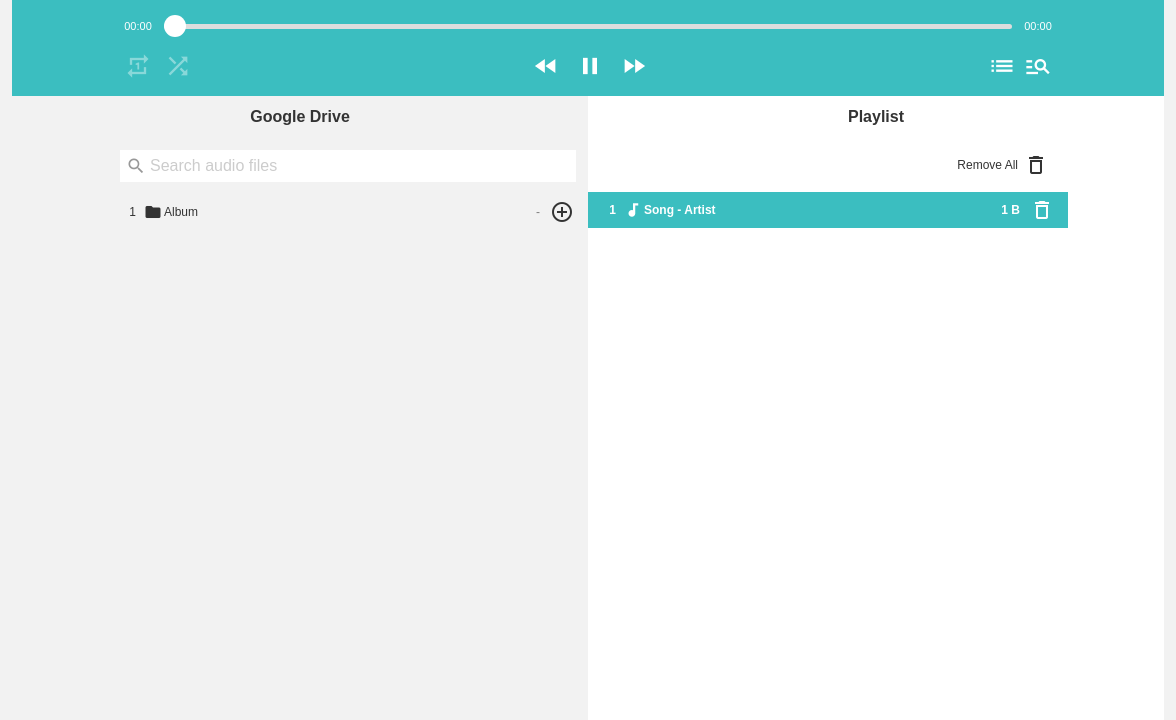
LibraryPage › 再生 › 再生中の曲の表示名をページのタイトルにする
This screenshot has width=1176, height=720.
Click the button with class "display-mode" at (1002, 66), box [984, 48, 1020, 84]
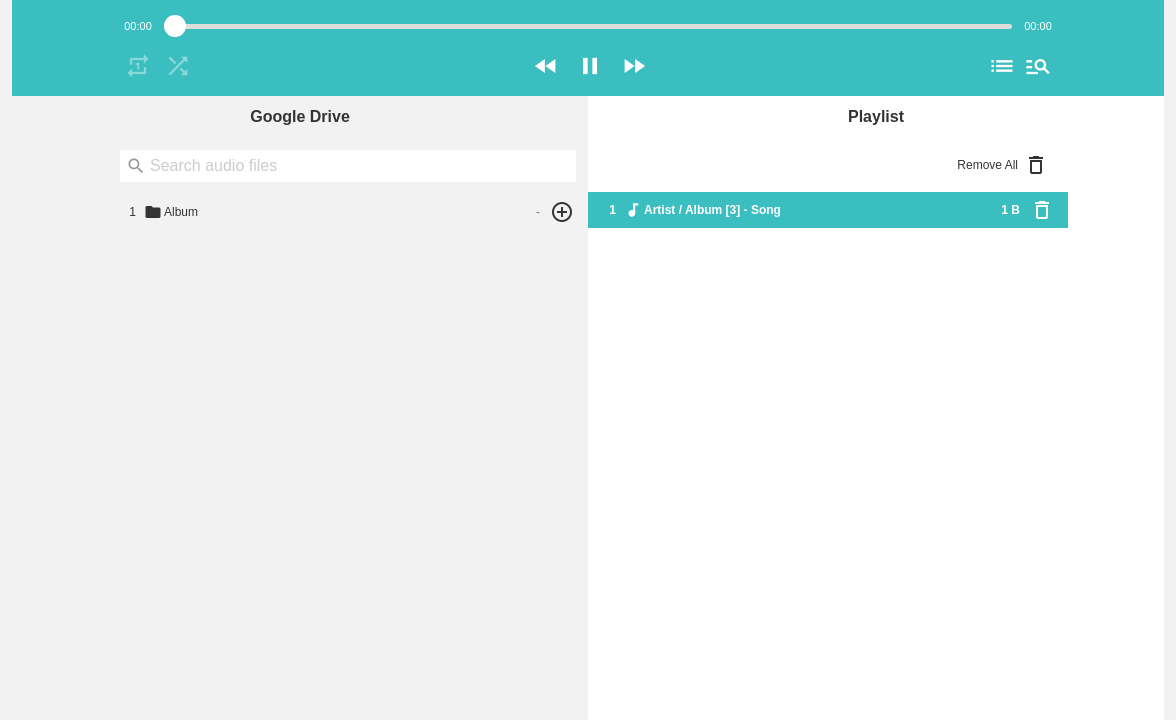
Click the button with class "display-mode" at (1002, 66), box [984, 48, 1020, 84]
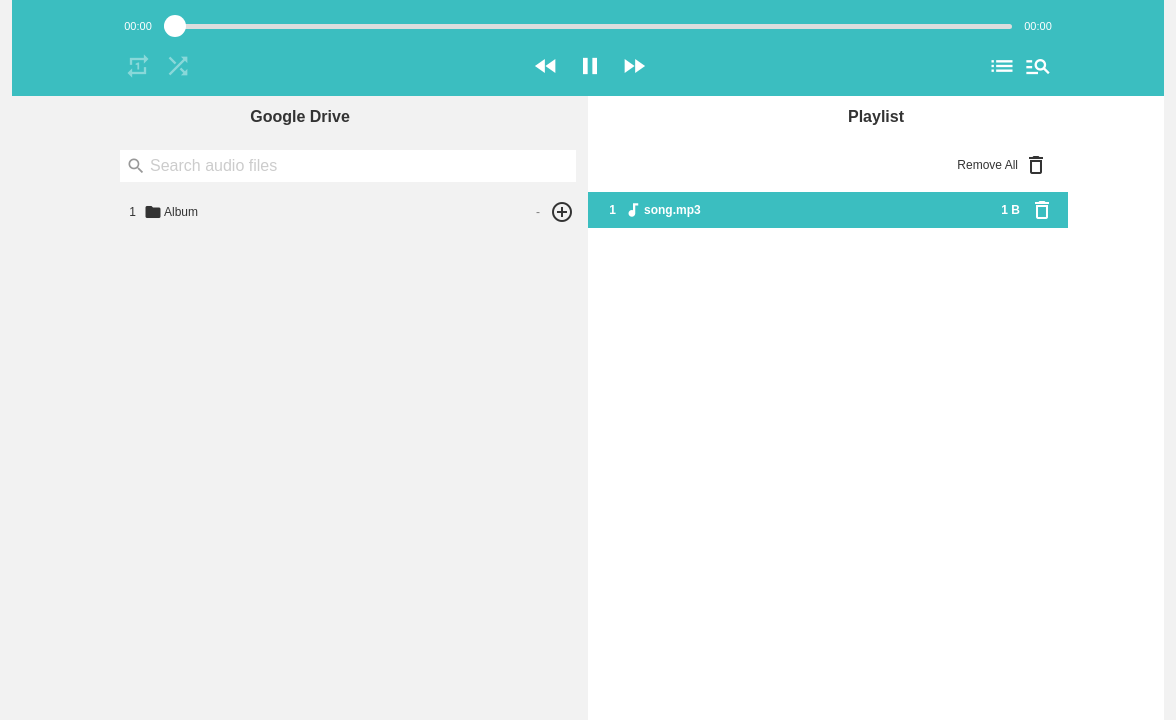
expect the text "song.mp3" is shown: met, box [644, 203, 701, 217]
